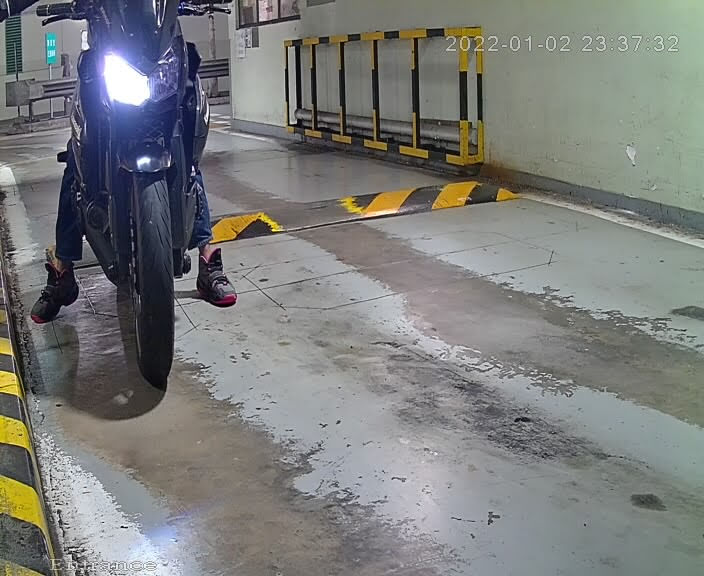motorcycle: (22, 1, 260, 423)
